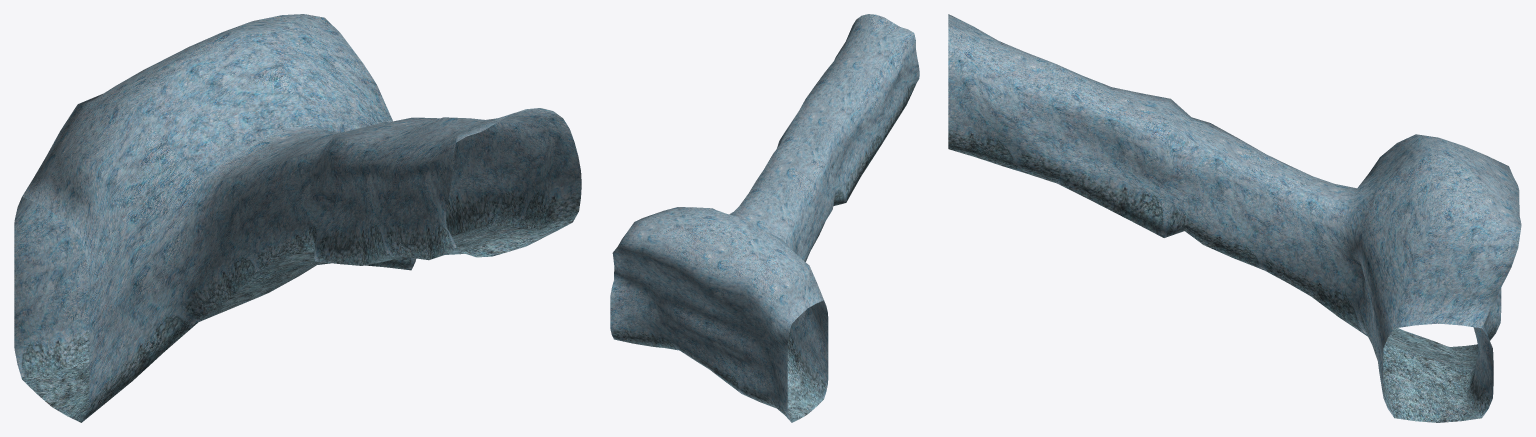
The model's file is thm_all_cave_s03_ice_r1_r1.fbx.
The picture shows the model from 3 angles, left to right: view 1: azimuth 30°, elevation 25°; view 2: azimuth 150°, elevation 25°; view 3: azimuth 270°, elevation 25°; orthographic projection. The views are drawn at different scales.
Parts seen in each view (by area): view 1: mesh_node; view 2: mesh_node; view 3: mesh_node.
Boxes of the visible parts, box(x1,y1,x2,y2) form: mesh_node: box(14, 14, 581, 422); mesh_node: box(610, 14, 919, 422); mesh_node: box(948, 14, 1521, 422).
Size of the model in its own units: 22.7 by 31.04 by 41.47.
